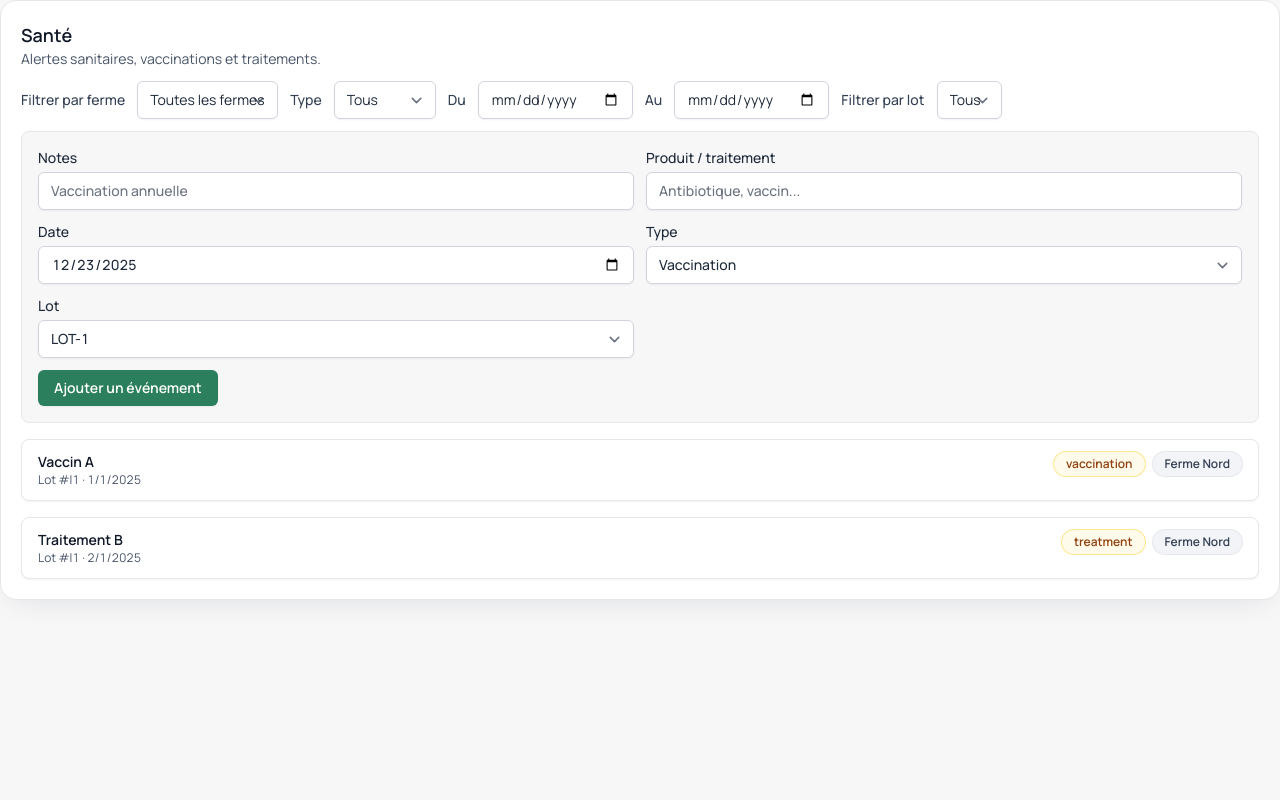
Test: SantePage › filtre par type et par date
# Filtre par type
Select "Traitement" in the dropdown labelled "Type" in the row of "Filtrer par ferme": (385, 100) [334,81,436,119]
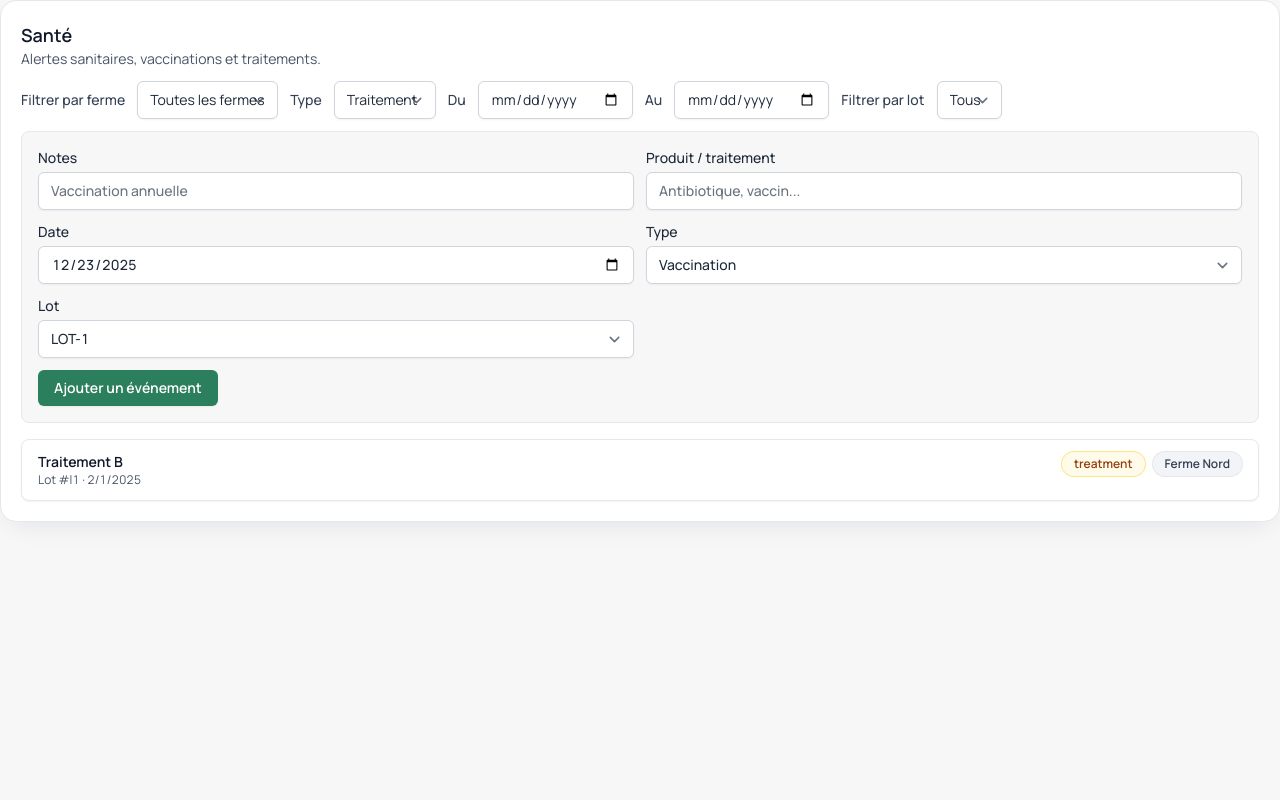
Expected: the text "Traitement B" is shown, [38,452,123,471]
Expected: the text "Vaccin A" is gone
# Filtre par date
In the date field labelled "Du": (555, 100) [478,81,633,119], type "2025-01-15"
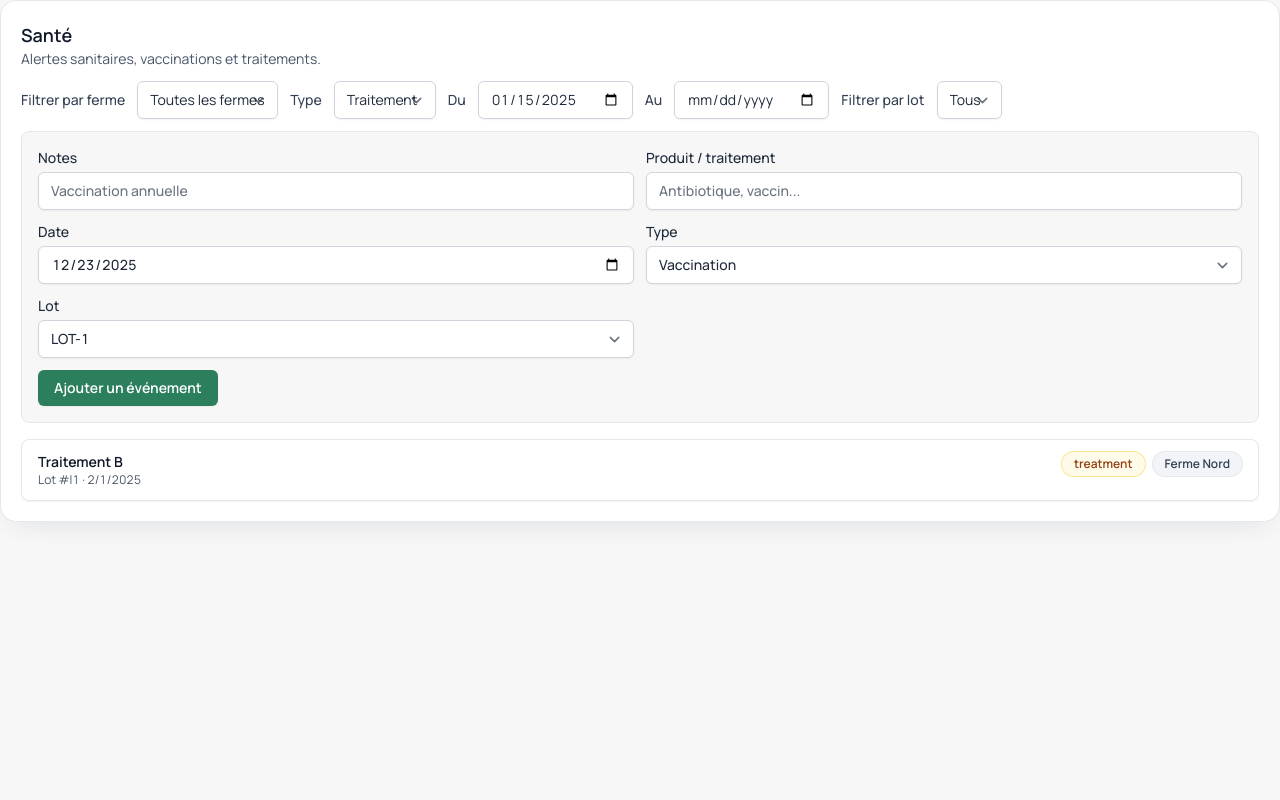
Expected: the text "Traitement B" is shown, [38,452,123,471]
In the date field labelled "Au": (752, 100) [674,81,829,119], type "2025-01-20"
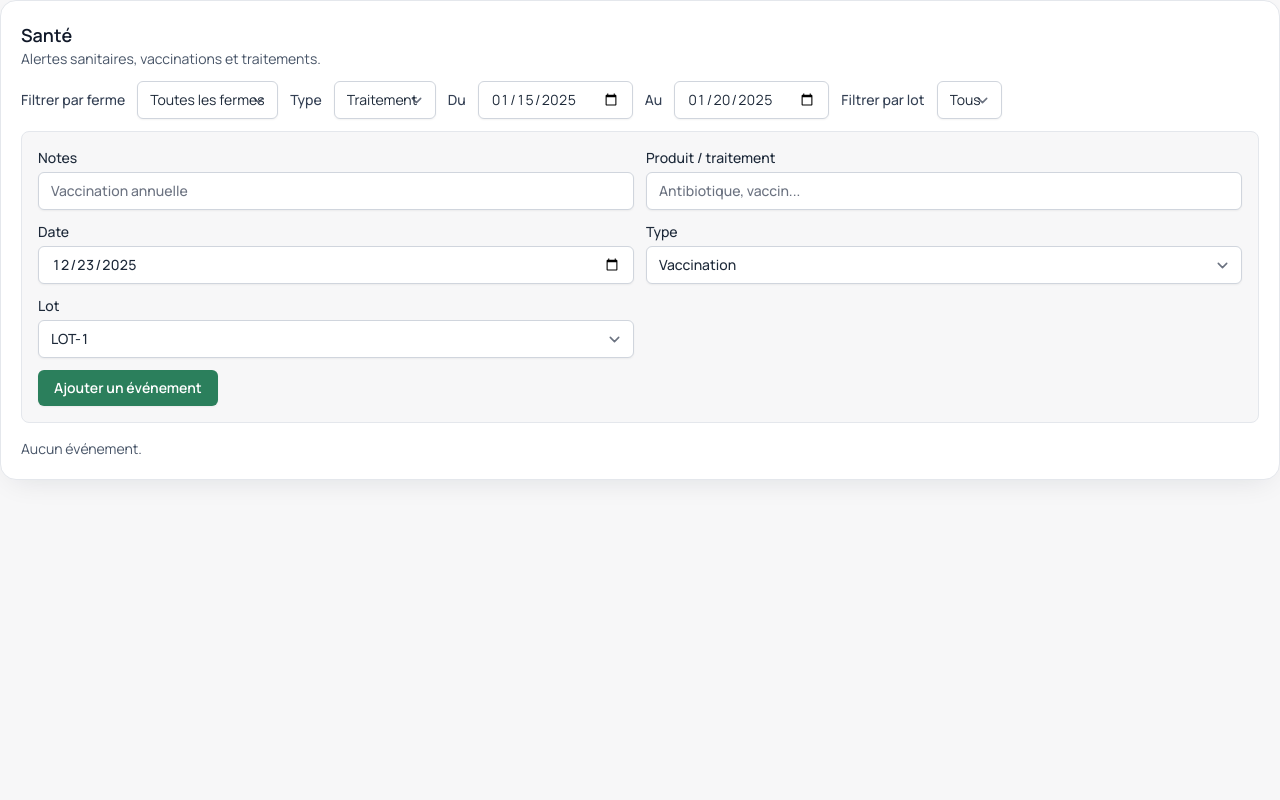
Expected: the text "Traitement B" is gone
